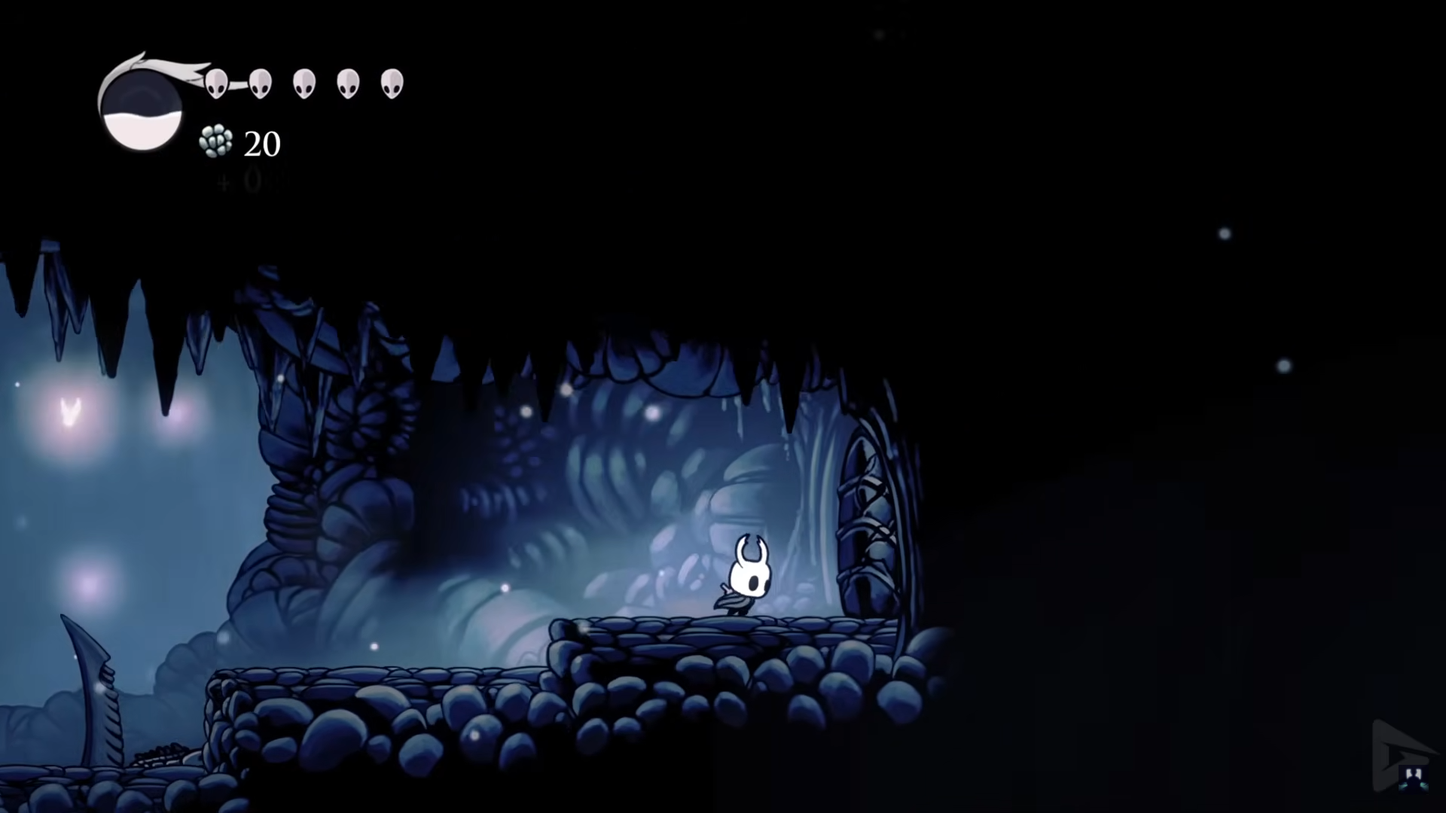HK: (715, 529, 776, 621)
